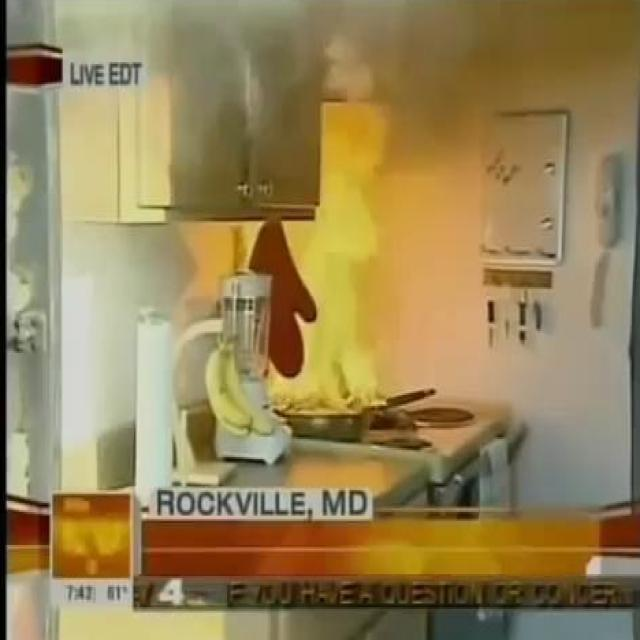fire: (7, 0, 340, 165), (342, 0, 521, 133)
smoke: (289, 107, 384, 410)
